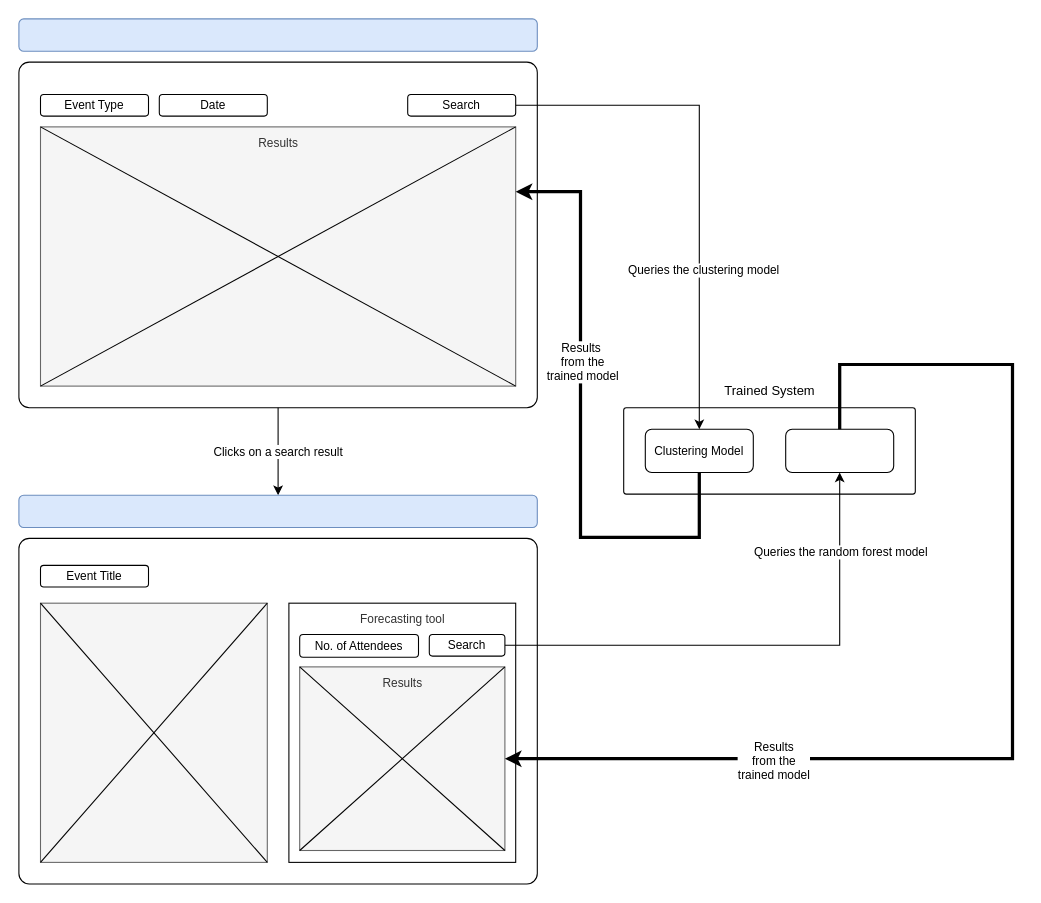
This 1041x903 diagram has some shape labels left out. The shapes that lost their labels are listed below. From the top down, each one's centre as x and y in pixels, then its label:
(x=277, y=34): Home page - recommender system
(x=839, y=450): Random Forest Model
(x=277, y=511): Details page - supply chain forecasting
(x=153, y=732): Event Details
